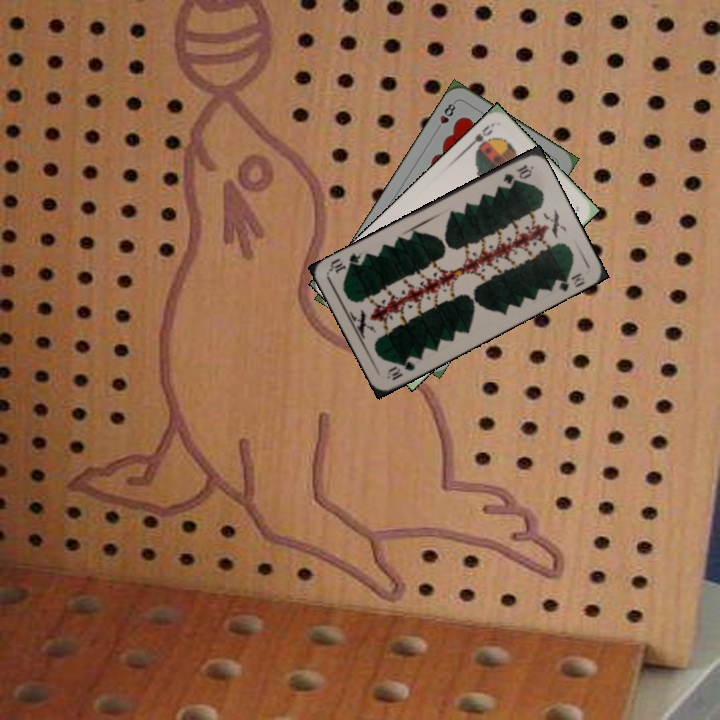G10: (499, 160, 534, 187), (383, 356, 418, 383)
H8: (432, 98, 458, 134)
SO: (462, 120, 496, 155)
